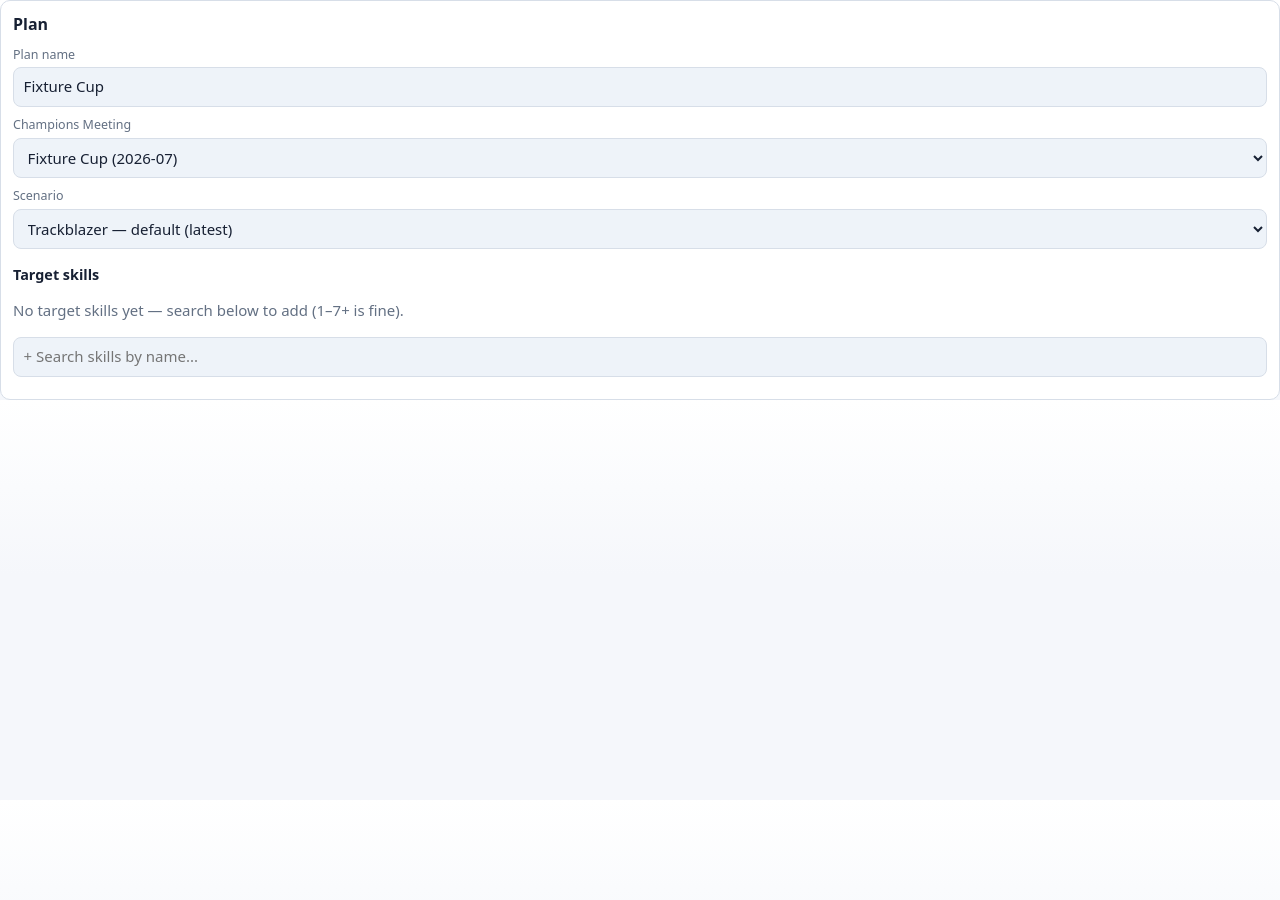
Test: PlanHeaderPanel skill search › filters by EN name, case-insensitively
In the search field labelled "Search skills by name": point(640, 357) [13,337,1267,377], type "CORNER"
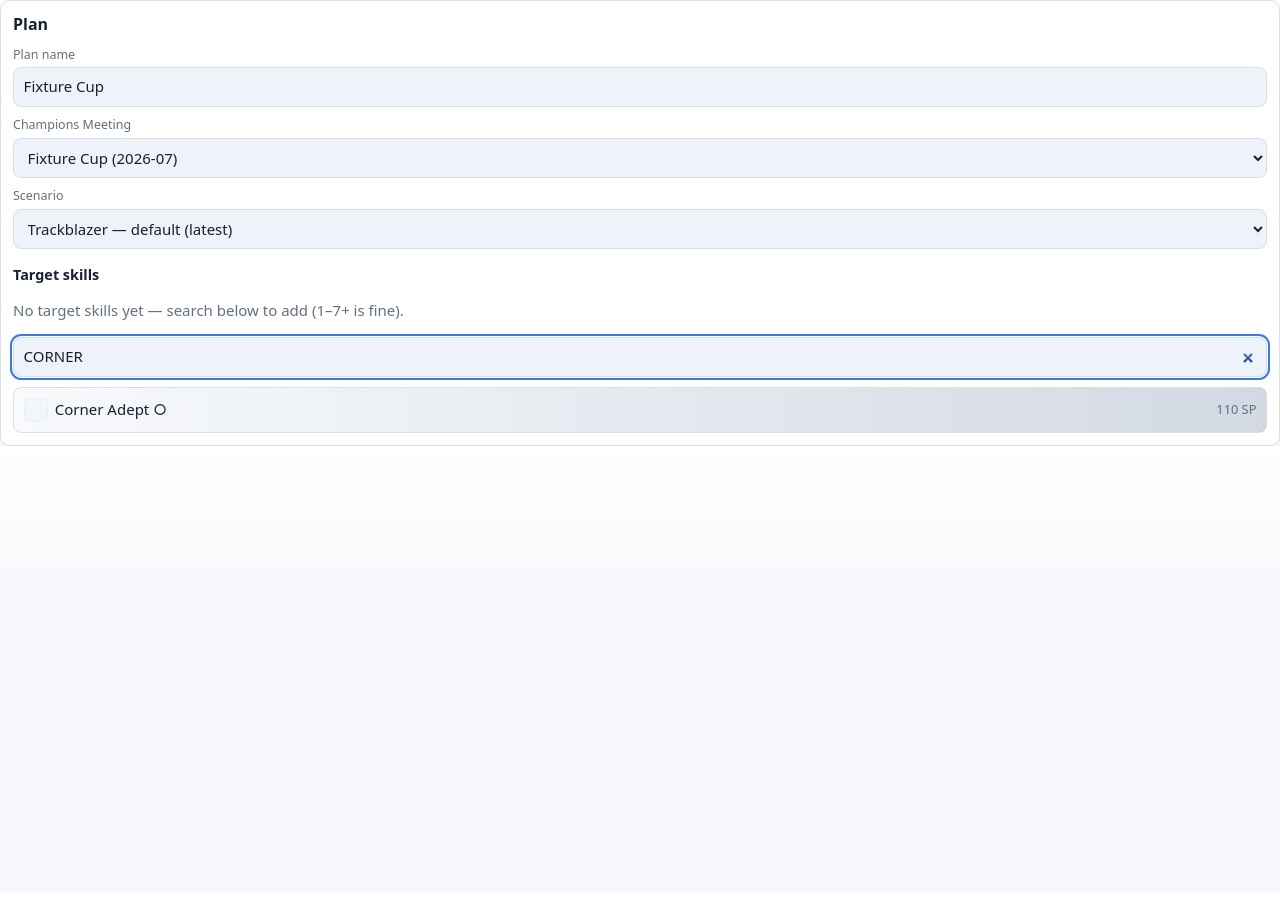
Expected: the button "Corner Adept ○ 110 SP" is shown, [14,388,1266,432]
